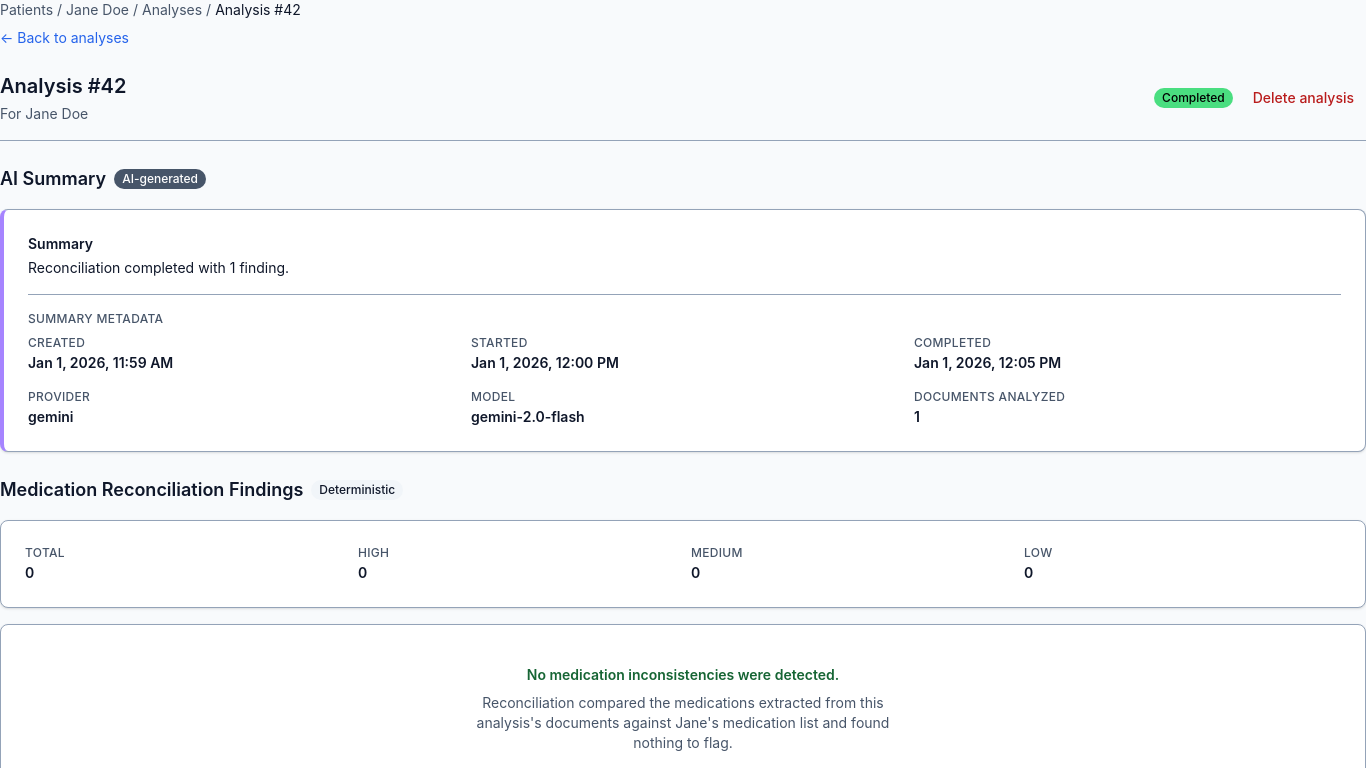
Test: AnalysisDetailPage › closes the dialog without deleting when Cancel is clicked
Click the button "Delete analysis" at (1303, 98), box [1241,82,1365,114]
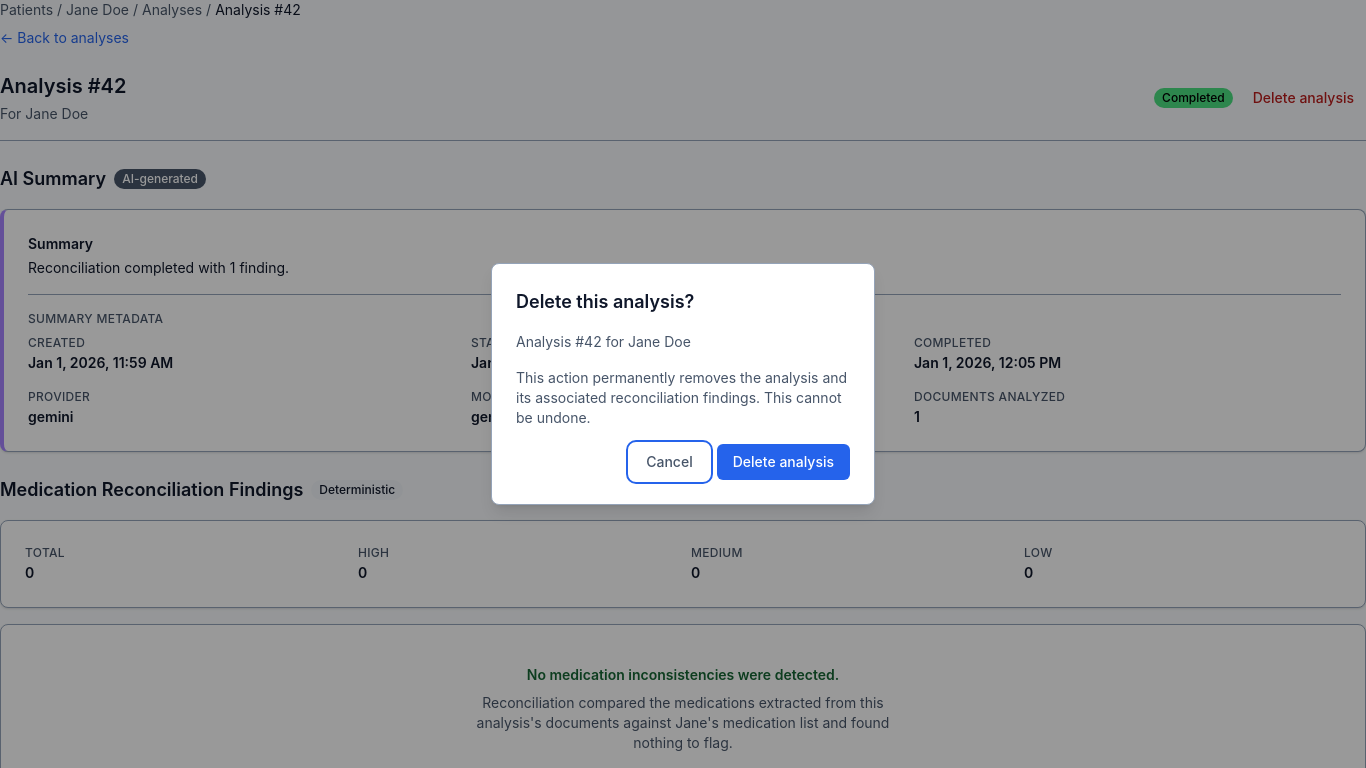
Click the button "Cancel" at (669, 462), box [630,444,709,480]
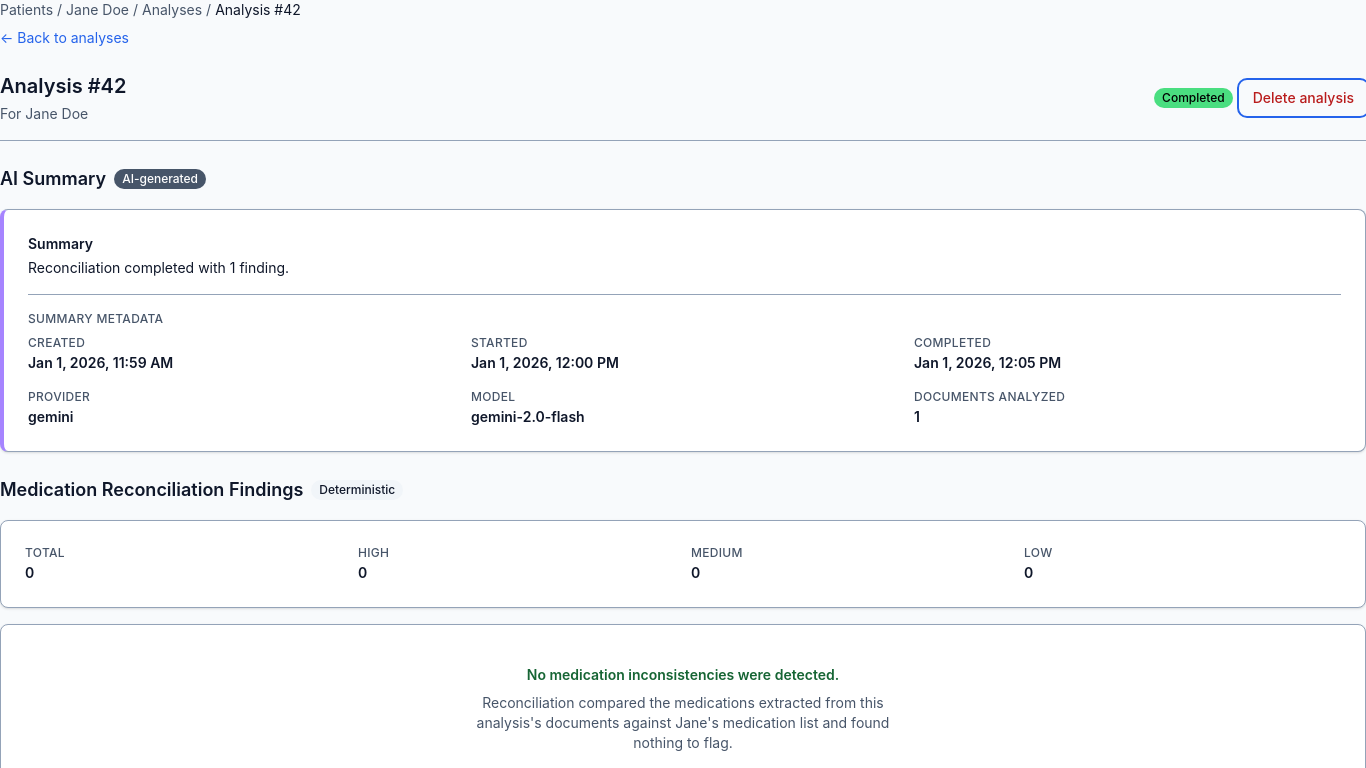
Now the dialog is gone
